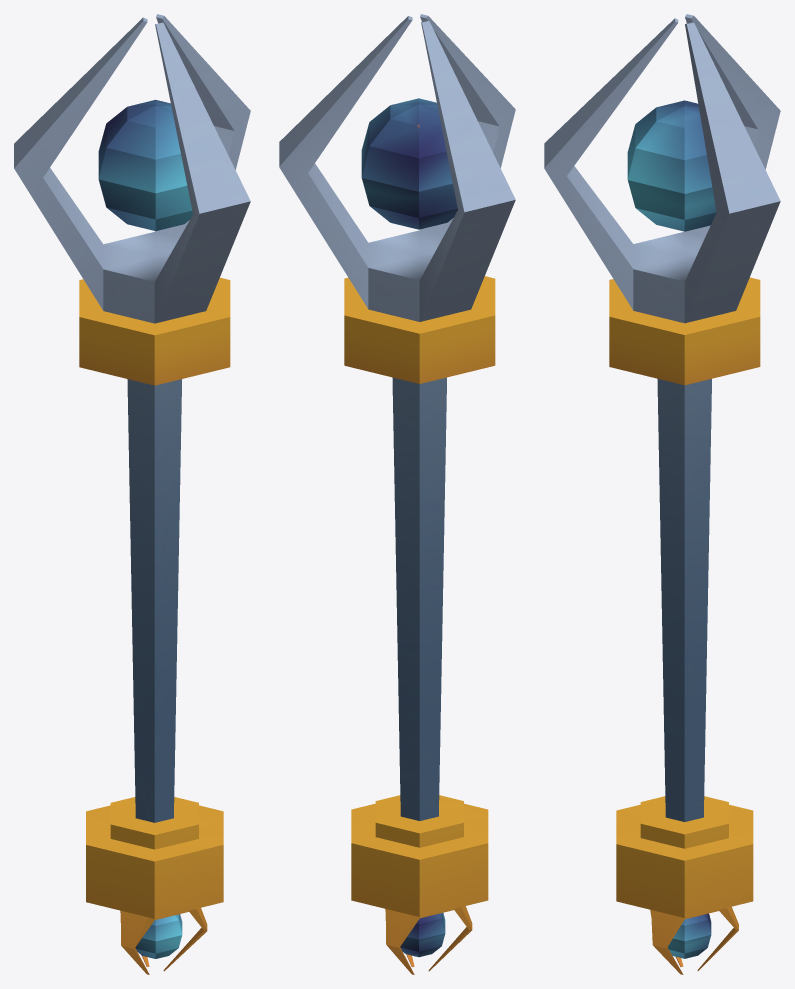
File: staff.fbx
3 renders of one model, left to right at view 1: azimuth 30°, elevation 25°; view 2: azimuth 150°, elevation 25°; view 3: azimuth 270°, elevation 25°, orthographic.
Visible parts, largest first — view 1: pSphere3; view 2: pSphere3; view 3: pSphere3.
Boxes of the visible parts, box(x1,y1,x2,y2) form: pSphere3: box(14, 14, 250, 974); pSphere3: box(279, 14, 515, 974); pSphere3: box(544, 14, 780, 974).
Bounding box in the file's own units: 22.12 × 85.05 × 19.16.
1 material, 1 textured.
